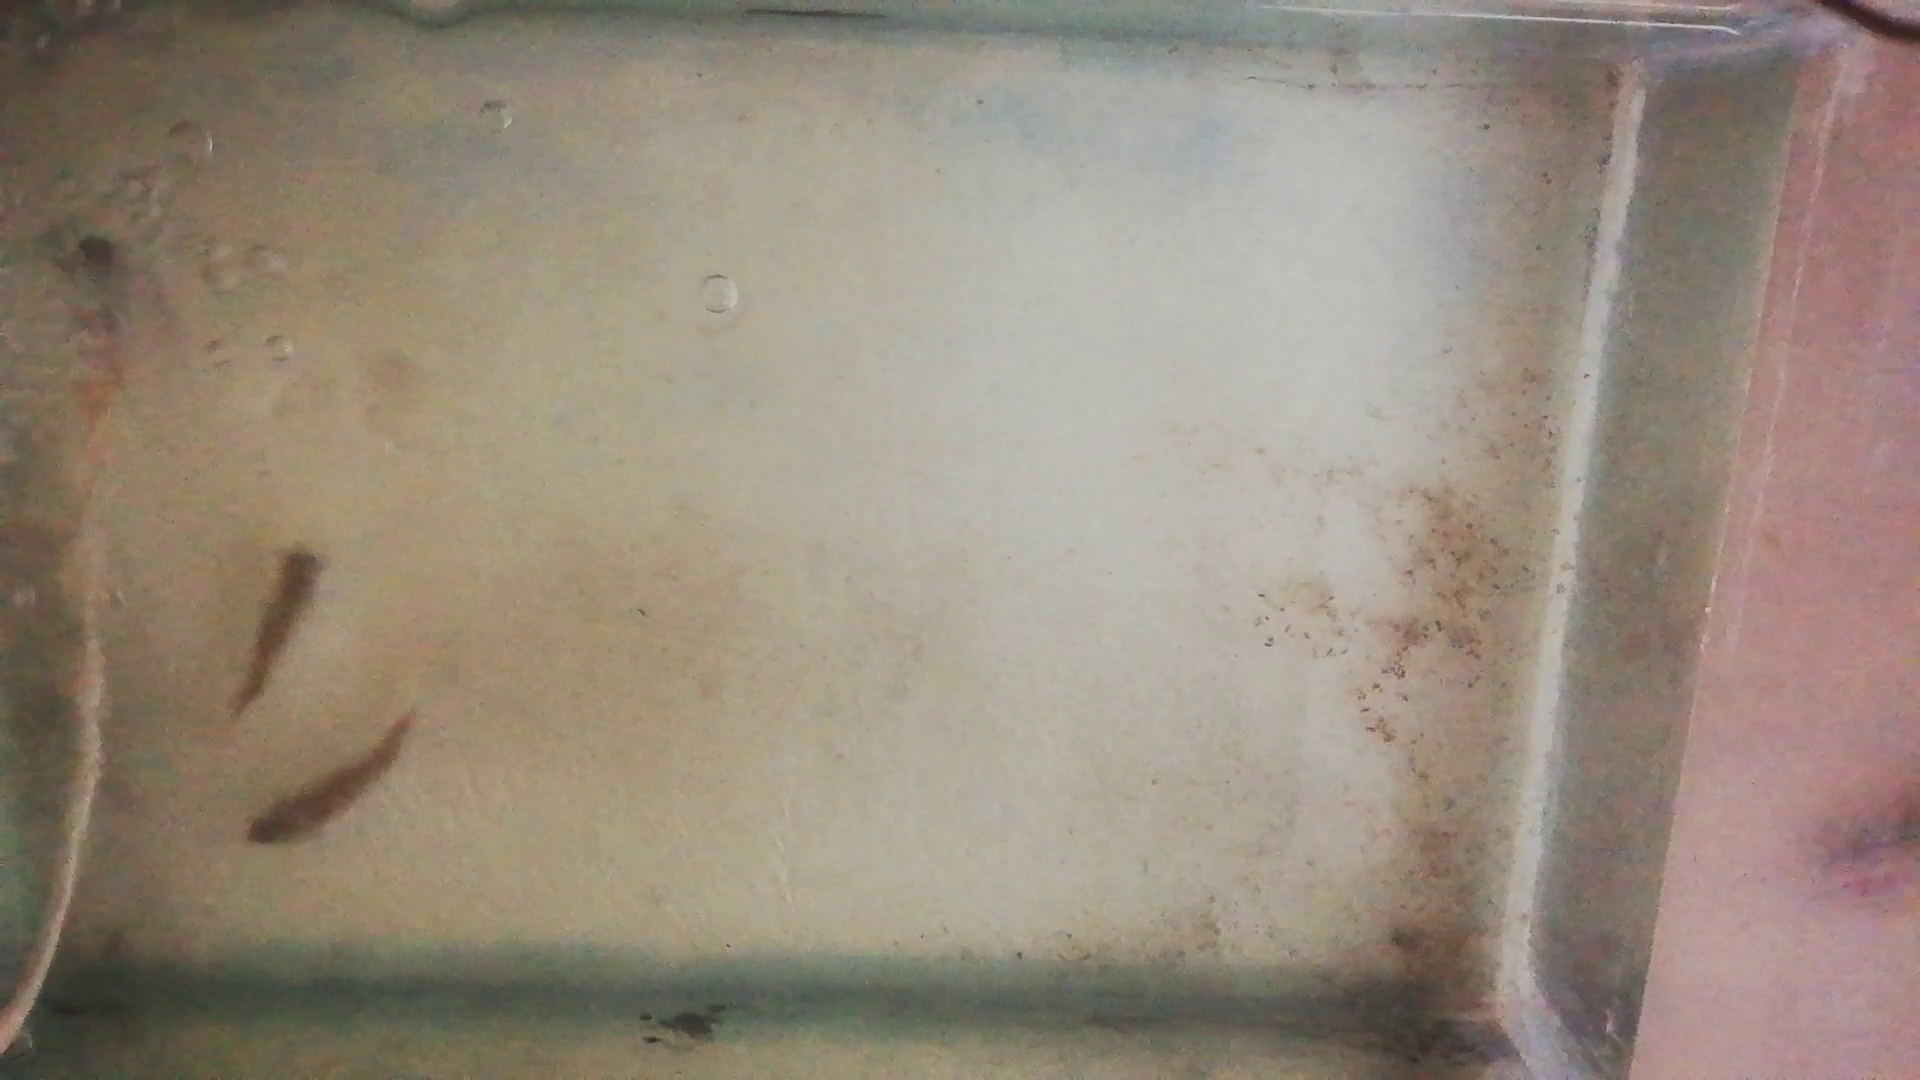fish: (245, 711, 414, 847), (233, 545, 324, 713)
